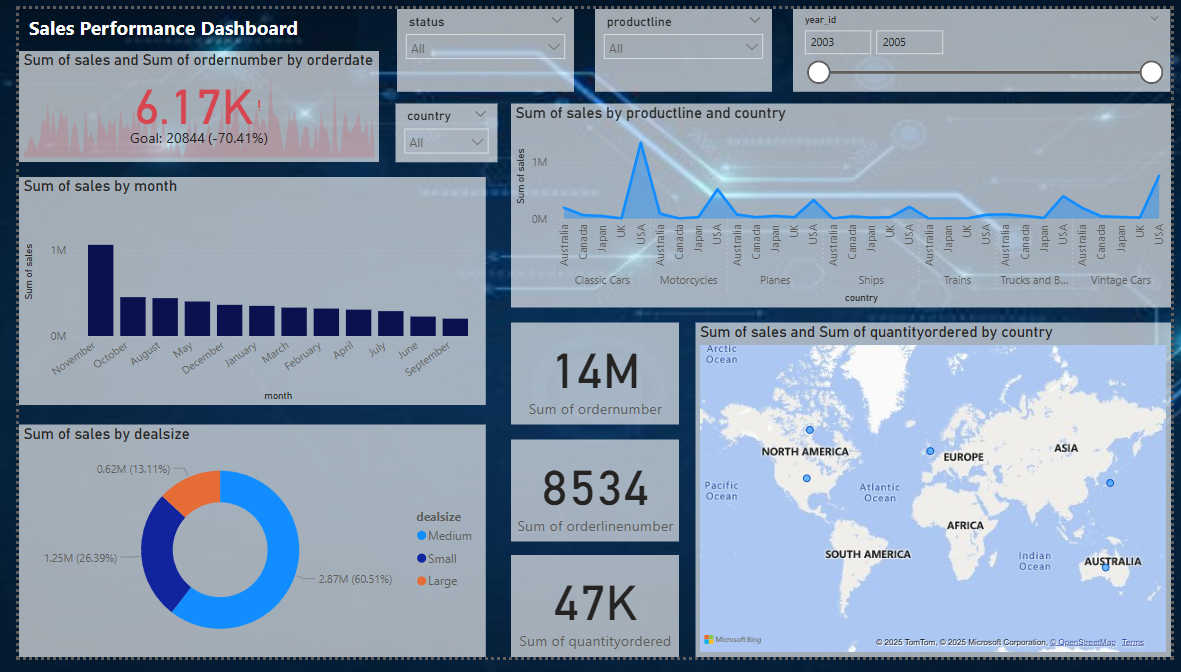

This screenshot's page, from the dashboard's own definition file:
{"tool":"powerbi","page":{"name":"Page 1","canvas":[1280,720],"ordinal":0},"visuals":[{"type":"kpi","fields":{"Indicator":["Sum(sales_data_sample_new.sales)"],"Goal":["Sum(sales_data_sample_new.ordernumber)"],"TrendLine":["sales_data_sample_new.orderdate"]},"box":[0,46.7,400,123.3],"z":0},{"type":"donutChart","fields":{"Category":["sales_data_sample_new.dealsize"],"Y":["Sum(sales_data_sample_new.sales)"]},"box":[0,461.7,518.3,258.3],"z":1000},{"type":"clusteredColumnChart","fields":{"Category":["sales_data_sample_new.month"],"Y":["Sum(sales_data_sample_new.sales)"]},"box":[0,186.7,518.3,253.3],"z":2000},{"type":"slicer","fields":{"Values":["sales_data_sample_new.year_id"]},"box":[860.2,0,419.2,91.7],"z":3000},{"type":"slicer","fields":{"Values":["sales_data_sample_new.status"]},"box":[420,0,196.7,91.7],"z":4000},{"type":"slicer","fields":{"Values":["sales_data_sample_new.productline"]},"box":[640,0,196.7,91.7],"z":5000},{"type":"card","fields":{"Values":["Sum(sales_data_sample_new.ordernumber)"]},"box":[546.7,348.3,186.7,113.3],"z":6000},{"type":"card","fields":{"Values":["Sum(sales_data_sample_new.orderlinenumber)"]},"box":[546.7,478.3,186.7,113.3],"z":7000},{"type":"card","fields":{"Values":["Sum(sales_data_sample_new.quantityordered)"]},"box":[546.7,606.7,186.7,113.3],"z":8000},{"type":"map","fields":{"Category":["sales_data_sample_new.country"]},"box":[751.7,348.3,528.3,371.7],"z":9000},{"type":"areaChart","fields":{"Category":["sales_data_sample_new.productline","sales_data_sample_new.country"],"Y":["Sum(sales_data_sample_new.sales)"]},"box":[546.7,105,733.3,226.7],"z":10000},{"type":"textbox","box":[0,0,375,46.7],"z":11000},{"type":"slicer","fields":{"Values":["sales_data_sample_new.country"]},"box":[418.3,105,113.3,65],"z":12000}]}

Visuals, with their boxes in screenshot pixels (x1, y1, x2, y2), scaled from the page's 1280x720 canvas onto the 1181x672 screenshot:
kpi - Sum(sales_data_sample_new.sales) x Sum(sales_data_sample_new.ordernumber): <region>0, 44, 369, 159</region>
donutChart - sales_data_sample_new.dealsize x Sum(sales_data_sample_new.sales): <region>0, 431, 478, 671</region>
clusteredColumnChart - sales_data_sample_new.month x Sum(sales_data_sample_new.sales): <region>0, 174, 478, 411</region>
slicer - sales_data_sample_new.year_id: <region>794, 0, 1180, 86</region>
slicer - sales_data_sample_new.status: <region>388, 0, 569, 86</region>
slicer - sales_data_sample_new.productline: <region>590, 0, 772, 86</region>
card - Sum(sales_data_sample_new.ordernumber): <region>504, 325, 677, 431</region>
card - Sum(sales_data_sample_new.orderlinenumber): <region>504, 446, 677, 552</region>
card - Sum(sales_data_sample_new.quantityordered): <region>504, 566, 677, 671</region>
map - sales_data_sample_new.country: <region>694, 325, 1180, 671</region>
areaChart - sales_data_sample_new.productline x sales_data_sample_new.country: <region>504, 98, 1180, 310</region>
textbox: <region>0, 0, 346, 44</region>
slicer - sales_data_sample_new.country: <region>386, 98, 490, 159</region>
